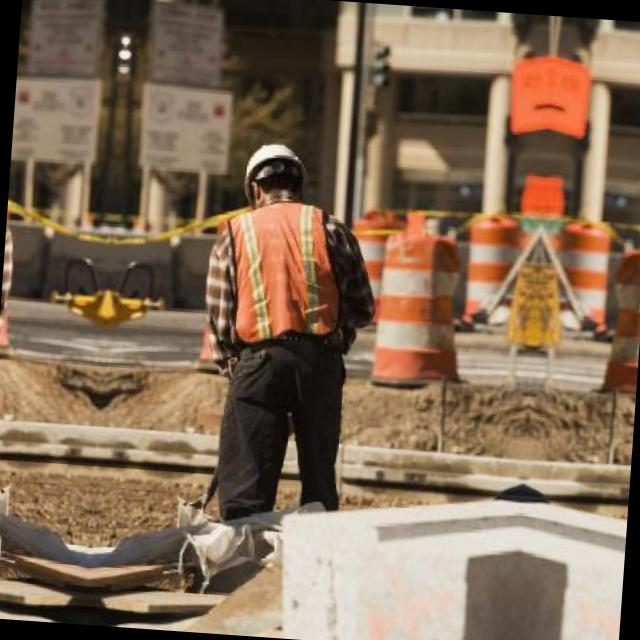helmet: (240, 138, 308, 222)
